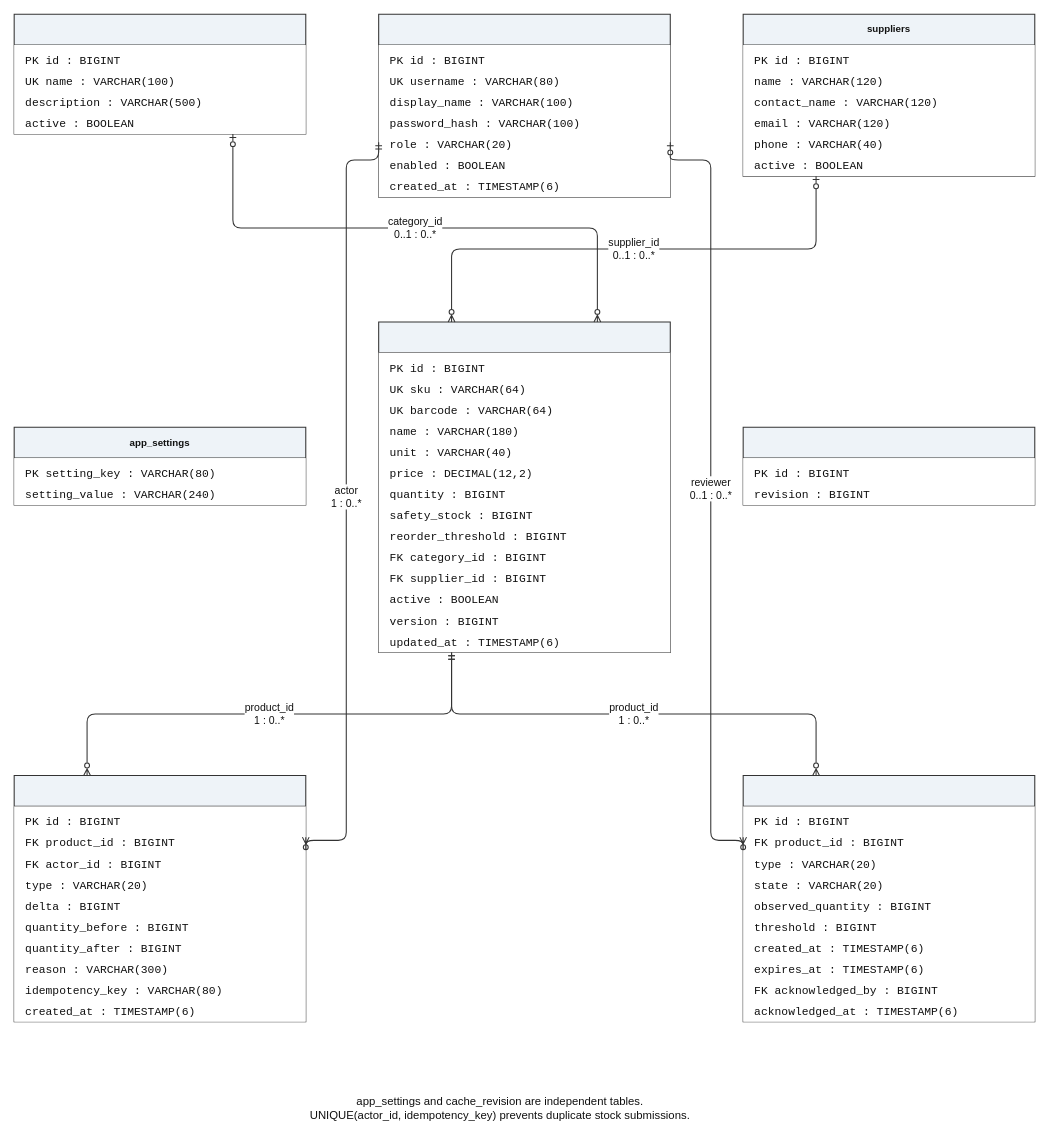
Image size: 1050x1146. Some labels were removed from this diagram. The shapes that lost their labels are listed below. From the top down, each one's box as (x1, y1, x2, y2) in pixels, then its label:
(13, 13, 306, 134): categories
(378, 13, 670, 197): users
(742, 426, 1035, 505): cache_revision
(378, 321, 670, 653): products
(13, 775, 306, 1022): inventory_transactions
(742, 775, 1035, 1022): warnings
